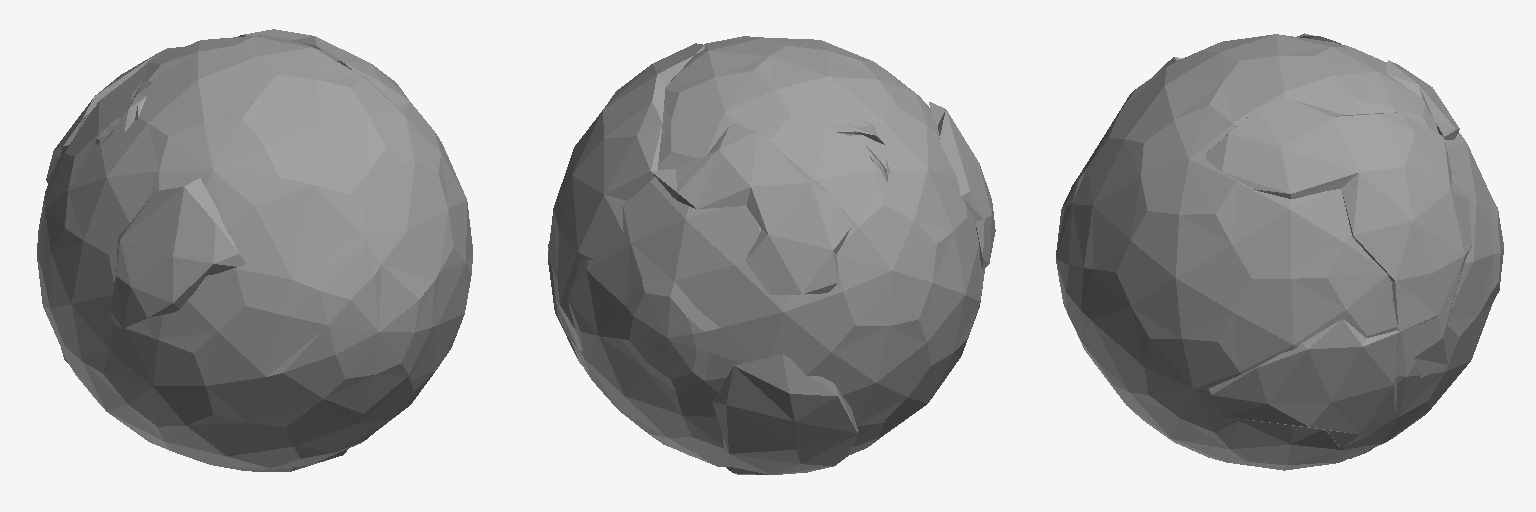
3 views of the same model, side by side, from view 1: azimuth 30°, elevation 25°; view 2: azimuth 150°, elevation 25°; view 3: azimuth 270°, elevation 25° (orthographic).
Parts seen in each view (by area): view 1: earth.001_Icosphere_Icosphere.001; view 2: earth.001_Icosphere_Icosphere.001; view 3: earth.001_Icosphere_Icosphere.001.
Part boxes in pixels (bbox=[...]): earth.001_Icosphere_Icosphere.001: bbox=[37, 29, 472, 471]; earth.001_Icosphere_Icosphere.001: bbox=[548, 36, 995, 474]; earth.001_Icosphere_Icosphere.001: bbox=[1056, 33, 1503, 470].
Size of the model in its own units: 2.64 by 2.64 by 2.69.